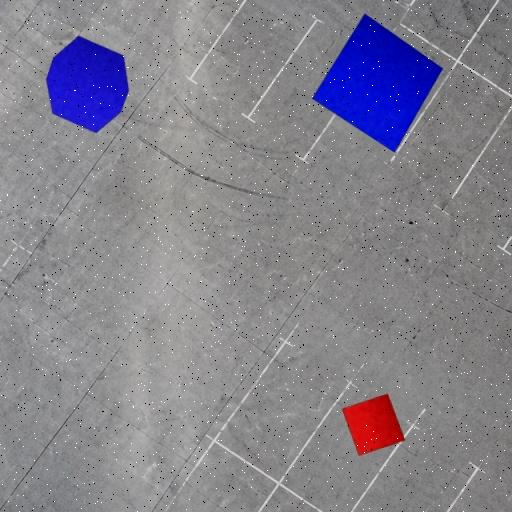BLUE_SQUARE: (311, 12, 443, 154)
RED_SQUARE: (342, 393, 406, 457)
